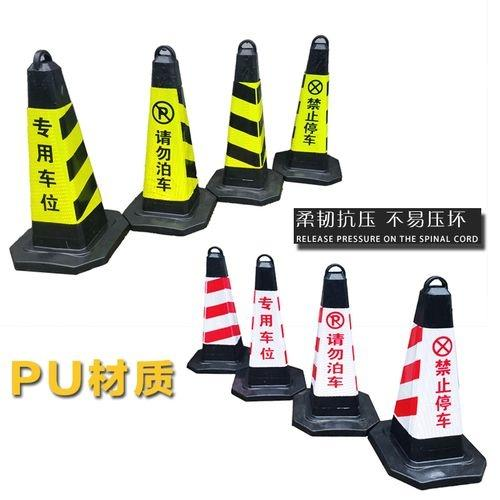cone_barrel: (9, 53, 121, 263), (378, 280, 482, 483), (128, 46, 206, 224), (300, 266, 367, 430), (211, 40, 277, 199), (274, 35, 340, 180), (236, 253, 298, 395), (186, 250, 248, 369)
